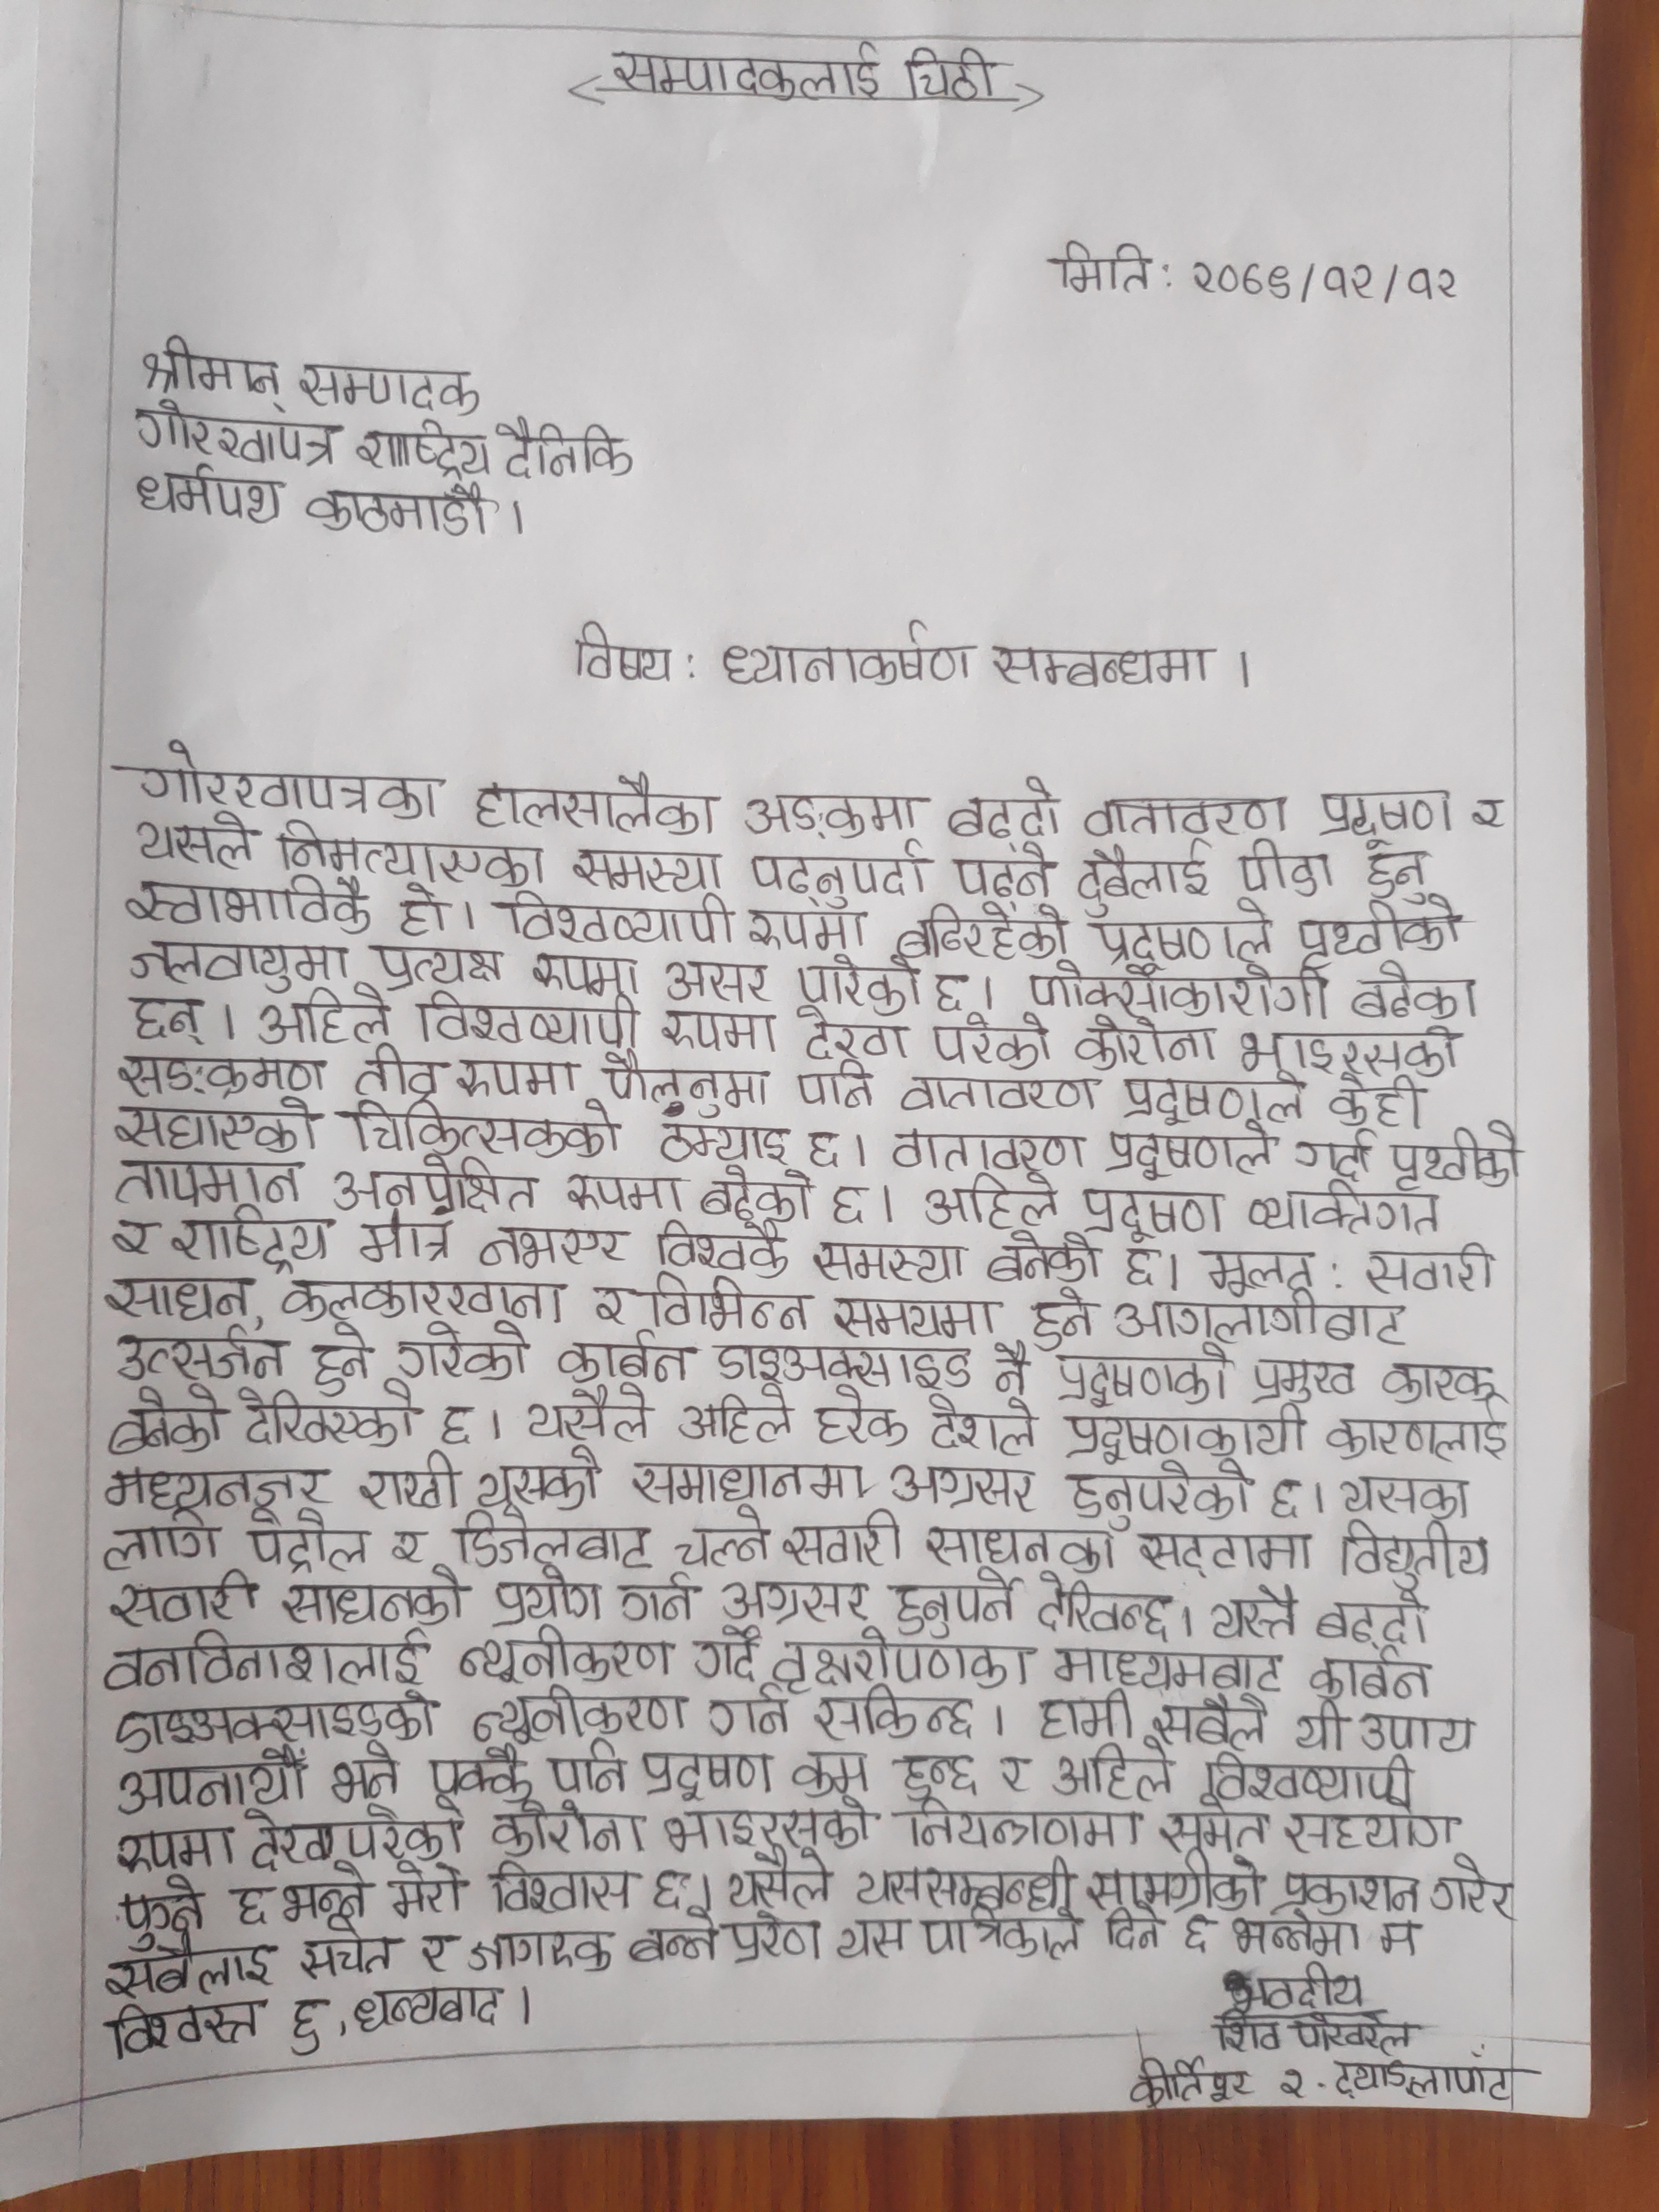text: (119, 735, 441, 819), (491, 885, 866, 954), (94, 1632, 434, 1695), (720, 611, 979, 690), (1026, 963, 1338, 1026), (112, 1691, 439, 1747), (610, 40, 892, 105), (274, 819, 542, 885), (471, 770, 725, 840), (281, 1270, 568, 1327), (347, 1101, 626, 1160), (1108, 1291, 1412, 1345), (770, 1632, 1037, 1693), (124, 871, 373, 935), (1185, 254, 1471, 308), (246, 1799, 469, 1867), (124, 397, 345, 465), (410, 991, 640, 1055), (1234, 1019, 1466, 1080), (1080, 895, 1276, 967), (326, 1155, 542, 1219), (1195, 1747, 1422, 1808), (904, 1801, 1150, 1857), (1061, 1409, 1331, 1460), (453, 1505, 657, 1571), (112, 1747, 312, 1813), (105, 1099, 328, 1158), (1246, 1181, 1448, 1245), (1046, 1641, 1286, 1695), (988, 637, 1220, 693), (458, 1627, 676, 1686), (709, 1336, 979, 1383), (850, 1857, 1077, 1912), (301, 477, 500, 540), (660, 1796, 884, 1851), (124, 935, 345, 991), (469, 1688, 694, 1742), (1073, 841, 1225, 920), (1321, 1404, 1521, 1463), (1065, 1465, 1253, 1527), (1293, 900, 1476, 965), (592, 1050, 770, 1116), (1324, 2054, 1542, 2106), (1049, 1339, 1230, 1402), (622, 1458, 870, 1503), (108, 1050, 329, 1101), (1338, 1517, 1493, 1588), (291, 359, 490, 415), (167, 1204, 335, 1270), (746, 845, 927, 906), (890, 902, 1072, 963), (98, 1460, 338, 1505), (1082, 791, 1305, 840), (1086, 1855, 1267, 1914), (98, 1937, 272, 1998), (108, 1153, 298, 1209), (237, 1390, 427, 1446), (924, 1521, 1119, 1575), (131, 462, 286, 529), (807, 1686, 979, 1747), (1103, 1125, 1283, 1183), (647, 1268, 816, 1329), (106, 1329, 289, 1385), (739, 787, 927, 841), (1033, 1573, 1175, 1644), (101, 2000, 261, 2062), (920, 1163, 1063, 1233), (885, 1568, 1025, 1639), (559, 836, 725, 895), (275, 1578, 469, 1629), (1281, 1801, 1467, 1853), (920, 1907, 1084, 1966), (1115, 1073, 1314, 1122), (1392, 1123, 1527, 1195), (1065, 1183, 1234, 1238), (894, 1071, 1101, 1116), (240, 1503, 375, 1573), (1072, 1012, 1220, 1075), (105, 1268, 261, 1327), (885, 1127, 1098, 1170), (1134, 1527, 1317, 1578), (915, 1388, 1044, 1460), (497, 413, 634, 479), (141, 333, 282, 397), (648, 1214, 796, 1275), (394, 1318, 530, 1385), (476, 1212, 626, 1271), (887, 1456, 1037, 1515), (1344, 956, 1485, 1019), (810, 1237, 974, 1291), (103, 1573, 261, 1629), (101, 1392, 234, 1458), (777, 1508, 911, 1573), (1323, 791, 1464, 852), (350, 1984, 509, 2038), (251, 989, 394, 1049), (1358, 1240, 1504, 1298), (830, 1291, 1002, 1339), (519, 1385, 657, 1446), (946, 773, 1066, 843), (716, 1575, 875, 1627), (119, 812, 258, 871), (476, 1449, 603, 1514), (101, 1508, 221, 1576), (1277, 1862, 1424, 1918), (638, 1743, 775, 1803), (484, 1864, 638, 1916), (1230, 834, 1351, 900), (354, 416, 491, 474), (488, 1808, 650, 1857), (1223, 1959, 1370, 2013), (1335, 1467, 1480, 1521), (558, 1329, 697, 1385), (981, 1224, 1105, 1287), (1049, 1747, 1183, 1804), (484, 1568, 610, 1629), (558, 1163, 690, 1221), (791, 954, 927, 1010), (462, 1930, 622, 1977), (795, 1005, 915, 1066), (725, 1848, 842, 1911), (1148, 1693, 1276, 1750), (563, 620, 676, 685), (922, 1014, 1054, 1068), (648, 1120, 795, 1169), (694, 1163, 810, 1224), (1328, 1071, 1441, 1134), (809, 1381, 913, 1449), (657, 1003, 784, 1059), (1309, 1648, 1443, 1700), (1229, 1911, 1363, 1963), (352, 1449, 465, 1510), (676, 1386, 800, 1442), (659, 953, 774, 1012), (951, 840, 1063, 900), (371, 939, 500, 991), (453, 1052, 586, 1103), (298, 1918, 399, 1984), (1359, 1703, 1483, 1757), (1124, 2057, 1251, 2109), (1157, 1801, 1274, 1857), (112, 1876, 202, 1947), (1312, 1592, 1436, 1644), (1248, 1350, 1363, 1406), (420, 1745, 535, 1801), (674, 1505, 770, 1571), (112, 1824, 239, 1872), (901, 45, 1002, 106), (528, 946, 645, 998), (1049, 239, 1154, 296), (626, 1907, 721, 1970), (1371, 1360, 1499, 1407), (274, 1867, 380, 1923), (1206, 1581, 1302, 1642), (725, 1911, 826, 1968), (1037, 1689, 1136, 1745), (1358, 834, 1434, 906), (356, 1214, 455, 1268), (1431, 1857, 1514, 1919), (1293, 1125, 1384, 1183), (1293, 2013, 1417, 2055), (352, 1052, 453, 1103), (1201, 1249, 1317, 1292), (542, 1742, 633, 1797), (894, 1752, 985, 1804), (793, 1059, 880, 1113), (702, 1695, 795, 1745), (131, 993, 213, 1049), (331, 1738, 401, 1803), (308, 1322, 368, 1397), (389, 1860, 465, 1918), (613, 1571, 701, 1622), (789, 1747, 873, 1799), (688, 1627, 765, 1683), (1028, 1287, 1094, 1348), (390, 878, 451, 941), (1206, 2010, 1283, 2057), (1105, 1902, 1169, 1956), (1290, 1702, 1351, 1757), (835, 1918, 911, 1961), (282, 1996, 326, 2066), (101, 1214, 160, 1261), (1265, 1472, 1314, 1527), (922, 967, 972, 1017), (1457, 792, 1509, 841), (432, 1400, 479, 1454), (988, 1345, 1033, 1397), (800, 1125, 849, 1172), (823, 1183, 868, 1231), (221, 1883, 270, 1926), (410, 1933, 460, 1975), (1115, 1240, 1154, 1294), (589, 1280, 638, 1322), (648, 1867, 688, 1918), (389, 1526, 429, 1575), (1373, 1923, 1424, 1958), (995, 1749, 1032, 1796), (1180, 1909, 1215, 1951), (1274, 2064, 1307, 2106)
